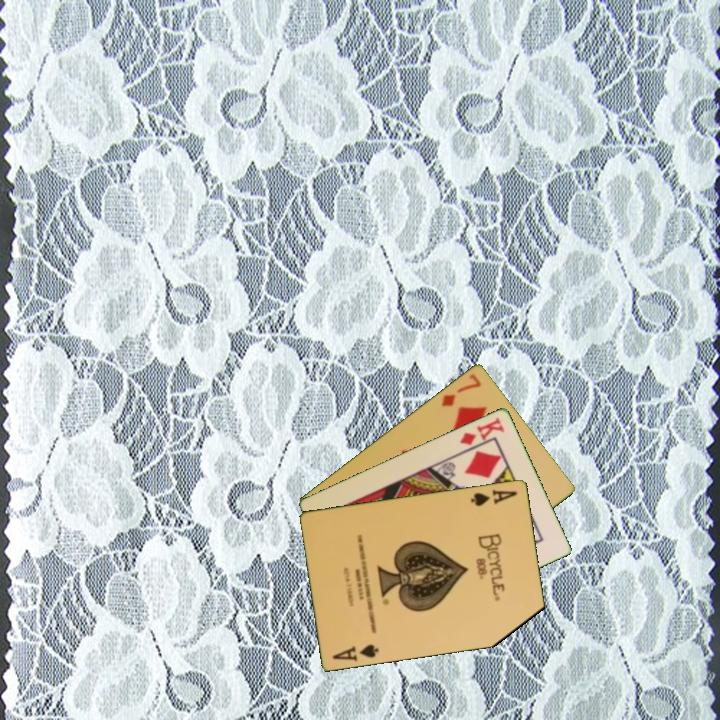7d: (438, 370, 484, 409)
As: (467, 486, 520, 509), (329, 640, 382, 663)
Kd: (456, 413, 508, 448)
